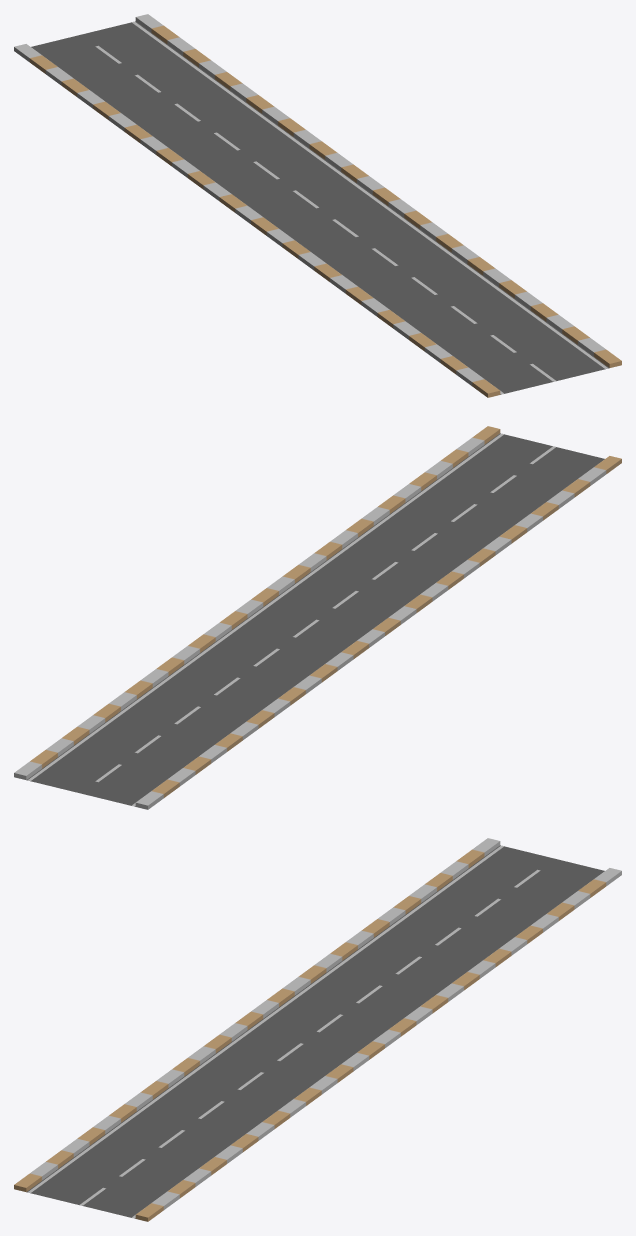
The model's file is Road.fbx.
3 renders of one model, top to bottom at view 1: azimuth 30°, elevation 25°; view 2: azimuth 150°, elevation 25°; view 3: azimuth 330°, elevation 25°, orthographic.
Visible parts, largest first — view 1: Road; view 2: Road; view 3: Road.
Boxes of the visible parts, x1,y1,x2,y2 form: Road: (14,14,621,397); Road: (14,426,621,809); Road: (14,838,621,1221).
Size of the model in its own units: 4.9 by 0.15 by 30.
1 material, 1 textured.
